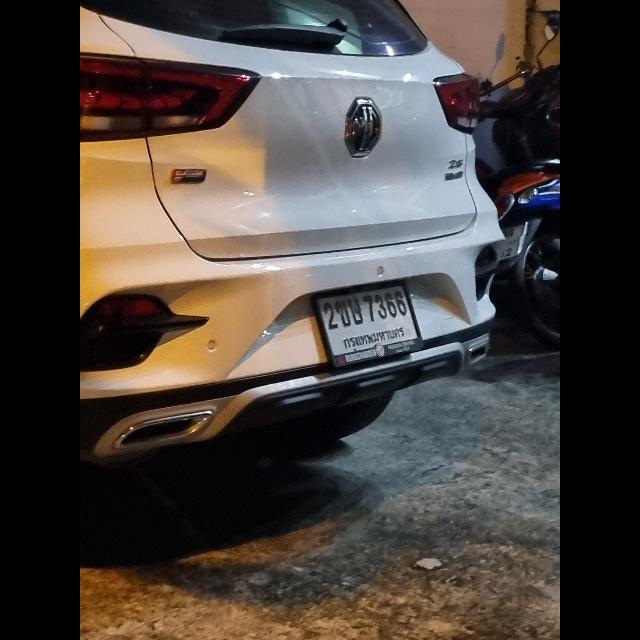licenseplate: (310, 276, 428, 369)
